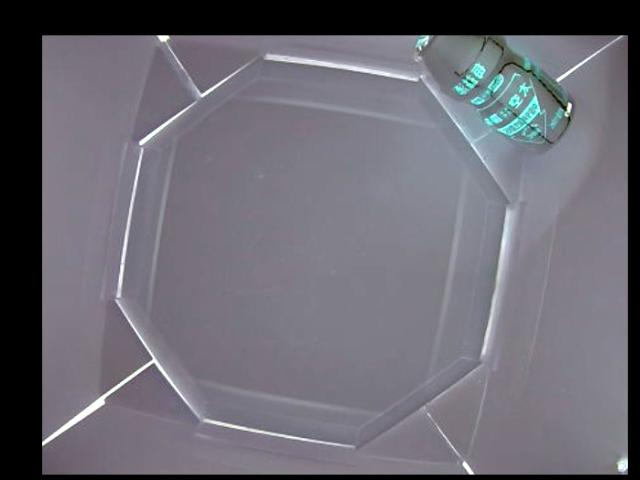Bottle: (413, 36, 580, 150)
